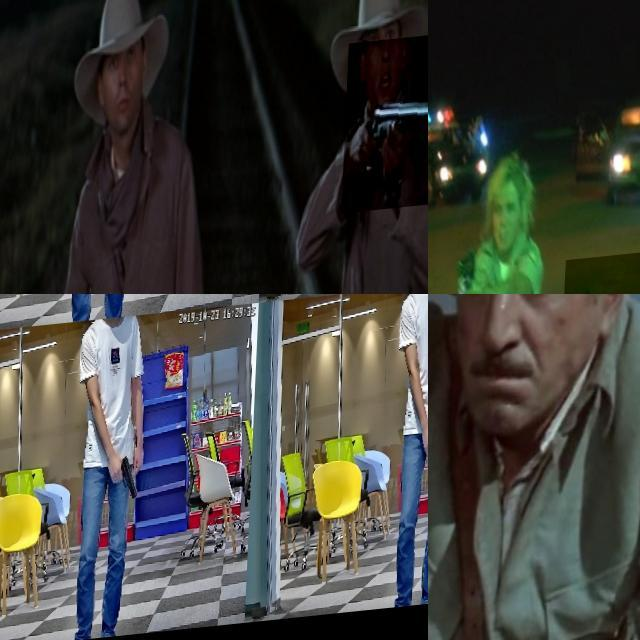gun-knife-thesis - v11 Yolov5 augmented: (344, 43, 428, 222), (428, 294, 490, 417), (451, 242, 488, 294), (112, 452, 146, 508), (16, 294, 50, 323), (402, 294, 428, 324)
